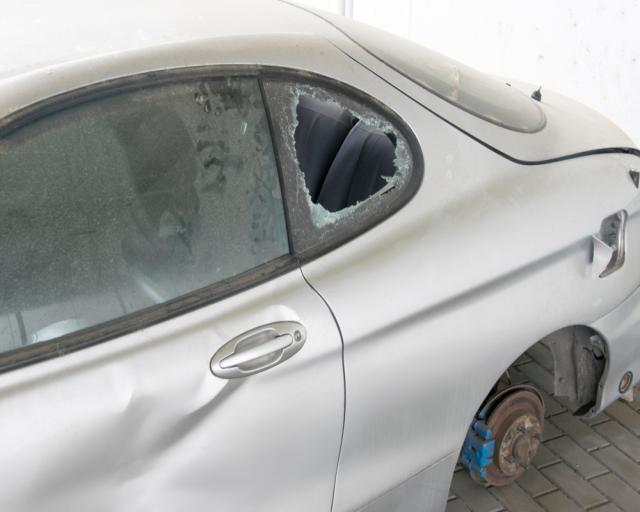dent: (102, 365, 255, 512)
glass shatter: (262, 80, 412, 253)
